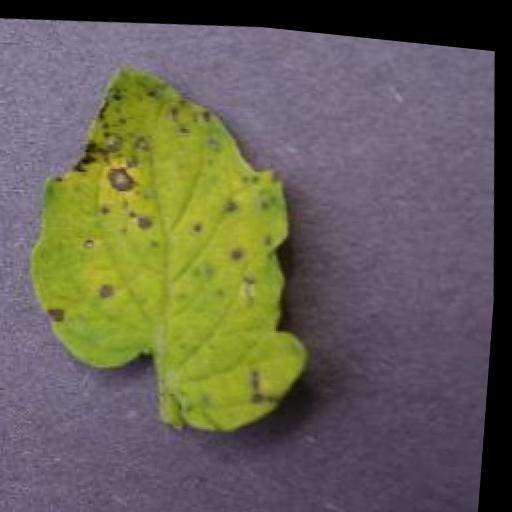Septoria: (6, 41, 336, 451)
